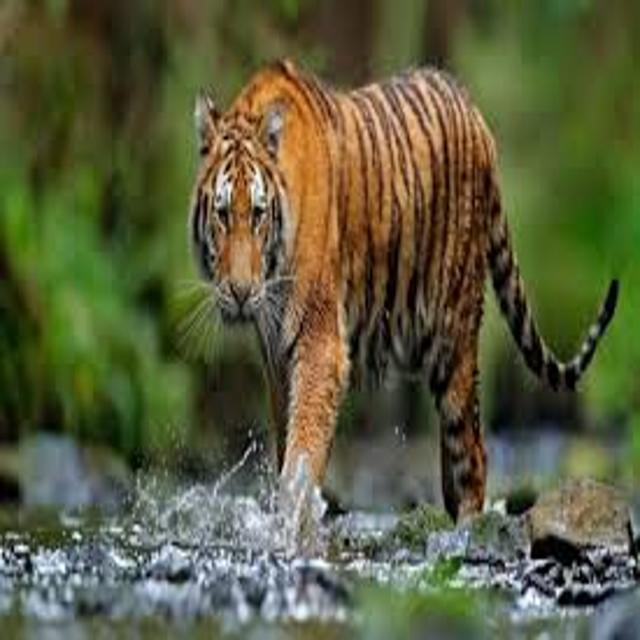Tiger: (155, 45, 628, 542)
